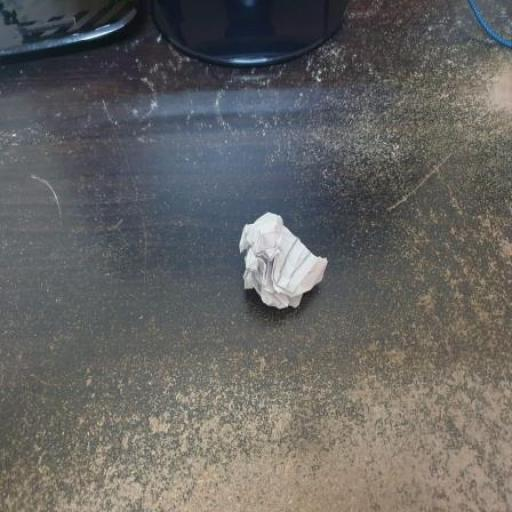paper: (212, 173, 356, 346)
